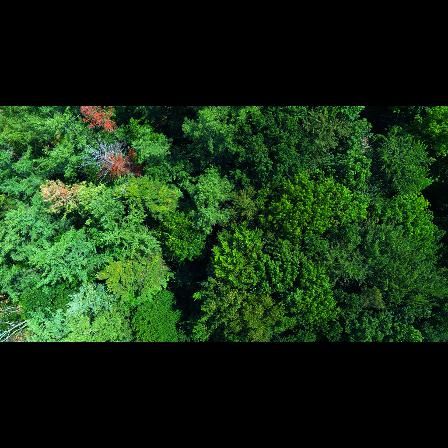Dead: (77, 138, 135, 187)
